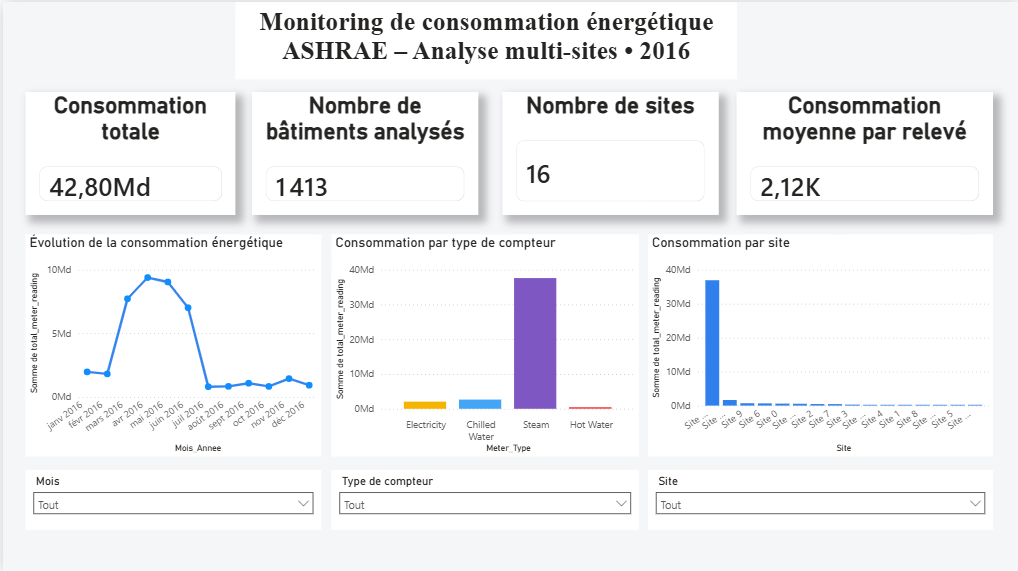

What the dashboard file says about the page in this screenshot:
{"tool":"powerbi","page":{"name":"Page 1","canvas":[1280,720],"ordinal":0},"visuals":[{"type":"lineChart","title":"Évolution de la consommation énergétique","fields":{"Y":["Sum(mart_daily_site_consumption.total_meter_reading)"],"Category":["mart_daily_site_consumption.Mois_Annee"]},"box":[28.3,292.5,371.7,279.2],"z":0},{"type":"columnChart","title":"Consommation par type de compteur","fields":{"Y":["Sum(mart_daily_site_consumption.total_meter_reading)"],"Category":["mart_daily_site_consumption.Meter_Type"]},"box":[412.3,292.5,386.8,279.2],"z":1001},{"type":"columnChart","title":"Consommation par site","fields":{"Y":["Sum(mart_daily_site_consumption.total_meter_reading)"],"Category":["mart_daily_site_consumption.Site"]},"box":[811.3,292.5,434,279.2],"z":1002},{"type":"slicer","fields":{"Values":["mart_daily_site_consumption.Site"]},"box":[811.3,588.7,434,75.5],"z":1003},{"type":"slicer","fields":{"Values":["mart_daily_site_consumption.Meter_Type"]},"box":[413.2,588.7,386.8,75.5],"z":1004},{"type":"slicer","fields":{"Values":["mart_daily_site_consumption.Mois_Annee"]},"box":[28.3,588.7,371.7,75.5],"z":1005},{"type":"cardVisual","title":"Consommation totale","fields":{"Data":["Sum(mart_daily_site_consumption.total_meter_reading)"]},"box":[28.3,113.2,264.2,154.7],"z":1006},{"type":"cardVisual","title":"Nombre de bâtiments analysés","fields":{"Data":["mart_daily_site_consumption.Nombre_Batiments_Affichage"]},"box":[313.2,113.2,284.9,154.7],"z":1007},{"type":"cardVisual","title":"Nombre de sites","fields":{"Data":["Count(mart_daily_site_consumption.site_id)"]},"box":[628.3,113.2,271.7,154.7],"z":1008},{"type":"cardVisual","title":"Consommation moyenne par relevé","fields":{"Data":["mart_daily_site_consumption.Consommation_Moyenne"]},"box":[922.6,113.2,322.6,154.7],"z":1009},{"type":"textbox","box":[291.7,0,631,97.6],"z":1010}]}

Visuals, with their boxes in screenshot pixels (x1, y1, x2, y2), scaled from the page's 1280x720 canvas onto the 1018x571 screenshot:
"Évolution de la consommation énergétique" lineChart: (x1=23, y1=232, x2=318, y2=453)
"Consommation par type de compteur" columnChart: (x1=328, y1=232, x2=636, y2=453)
"Consommation par site" columnChart: (x1=645, y1=232, x2=990, y2=453)
slicer - mart_daily_site_consumption.Site: (x1=645, y1=467, x2=990, y2=527)
slicer - mart_daily_site_consumption.Meter_Type: (x1=329, y1=467, x2=636, y2=527)
slicer - mart_daily_site_consumption.Mois_Annee: (x1=23, y1=467, x2=318, y2=527)
"Consommation totale" cardVisual: (x1=23, y1=90, x2=233, y2=212)
"Nombre de bâtiments analysés" cardVisual: (x1=249, y1=90, x2=476, y2=212)
"Nombre de sites" cardVisual: (x1=500, y1=90, x2=716, y2=212)
"Consommation moyenne par relevé" cardVisual: (x1=734, y1=90, x2=990, y2=212)
textbox: (x1=232, y1=0, x2=734, y2=77)
